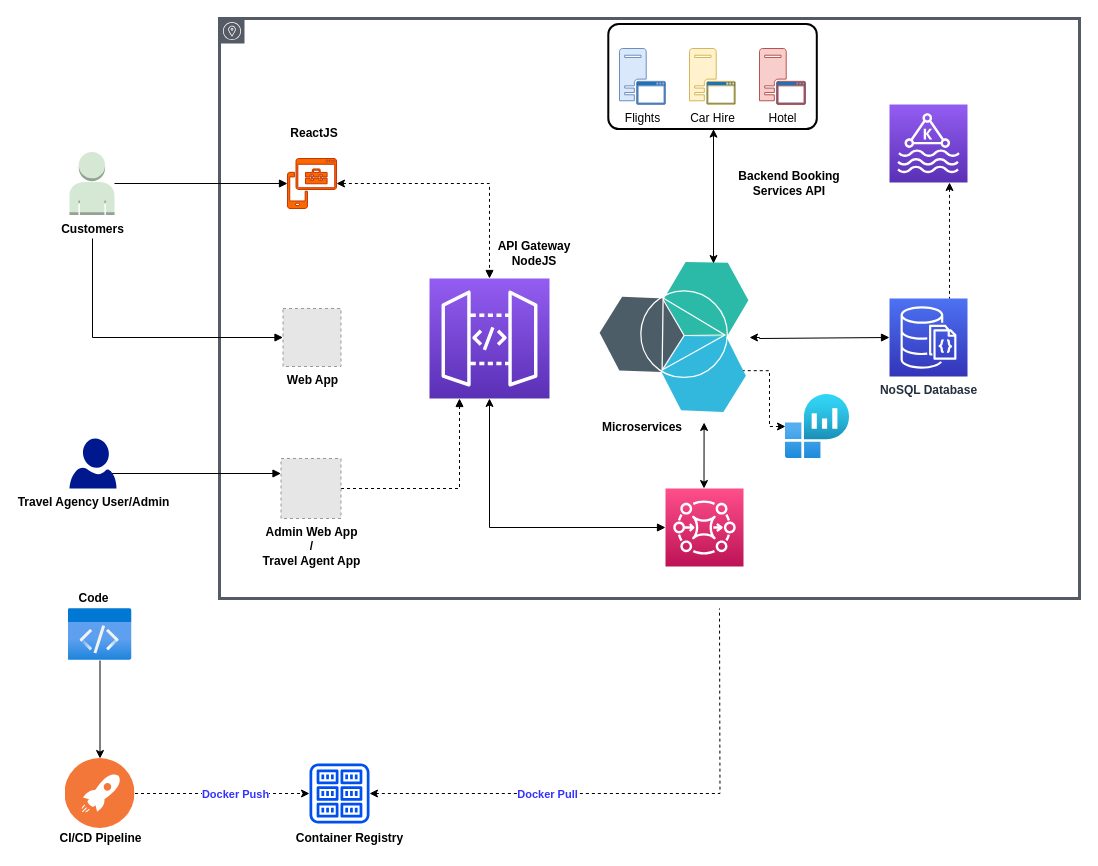
This 1098x866 diagram has some shape labels left out. Grey dashed boxes stand in for pictures. The box of each missing label's shape, as (x1, y1, x2, y2) in pixels:
Event Management / Streams: (888, 104, 968, 182)
Logs and Analytics: (785, 394, 849, 458)
Message Broker: (664, 488, 744, 566)
PWA Mobile app: (286, 158, 336, 208)
